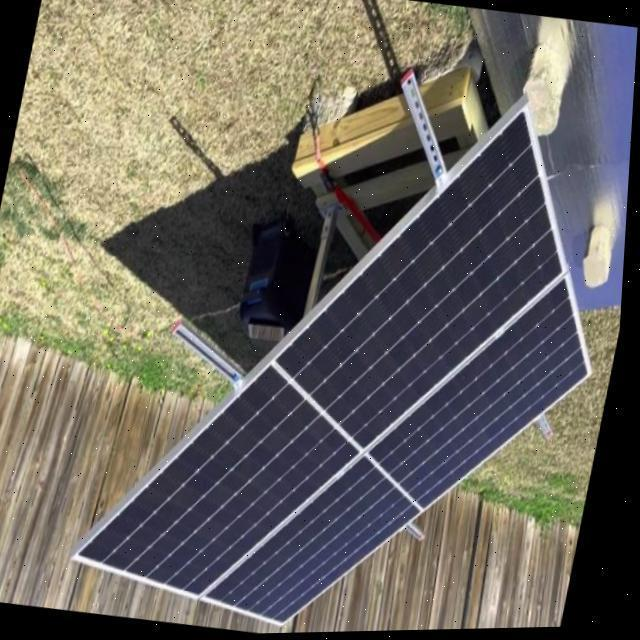Normal Solar Panel: (70, 56, 637, 638)
